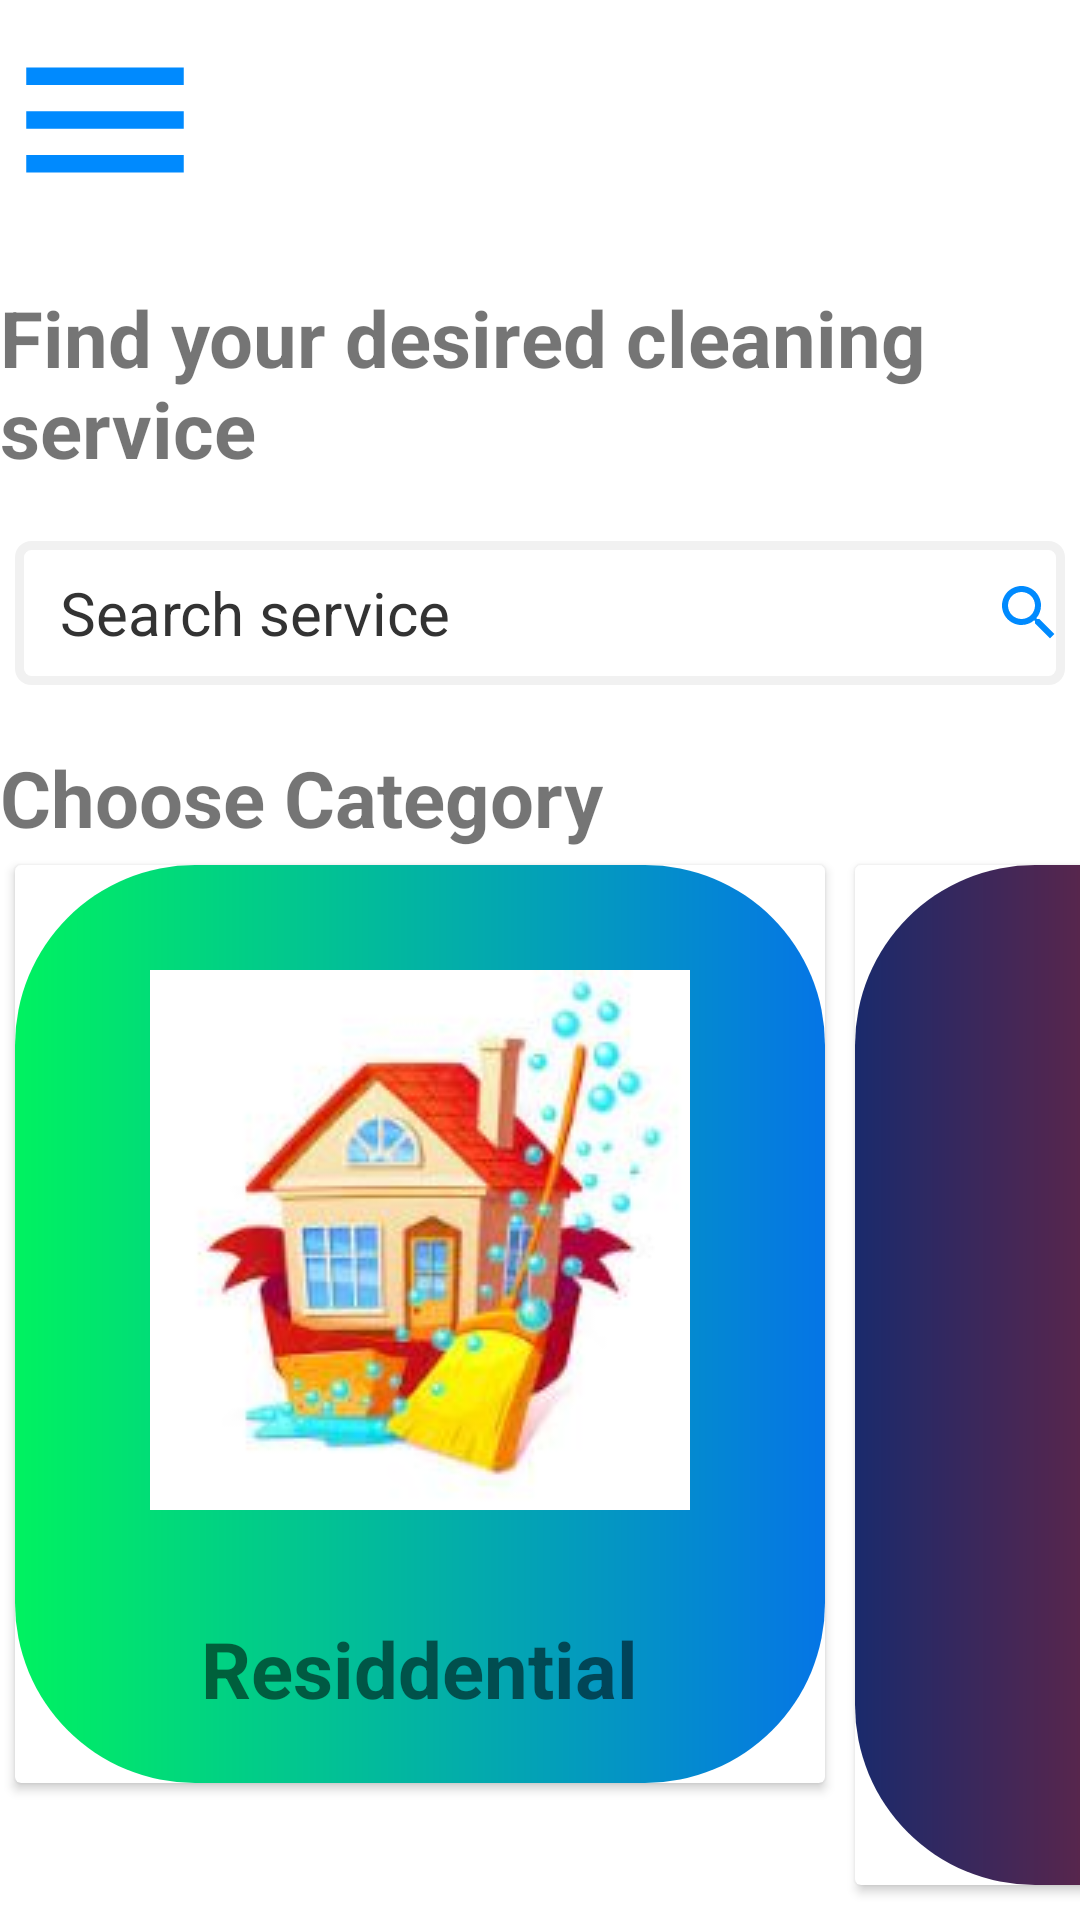

Named icons in this screenshot (1080px×1920px) and their bounding boxes, (x1, y1, x2, y2):
menu: (26, 67, 184, 173)
